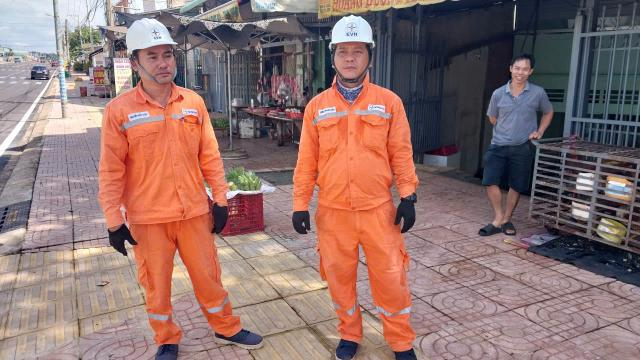gloves: (97, 216, 147, 262), (393, 189, 431, 235), (279, 204, 319, 238), (207, 196, 232, 237)
harness: (210, 319, 267, 350), (152, 323, 183, 360), (331, 327, 361, 360), (388, 342, 434, 360)
helmet: (121, 15, 183, 55), (322, 9, 381, 50)
